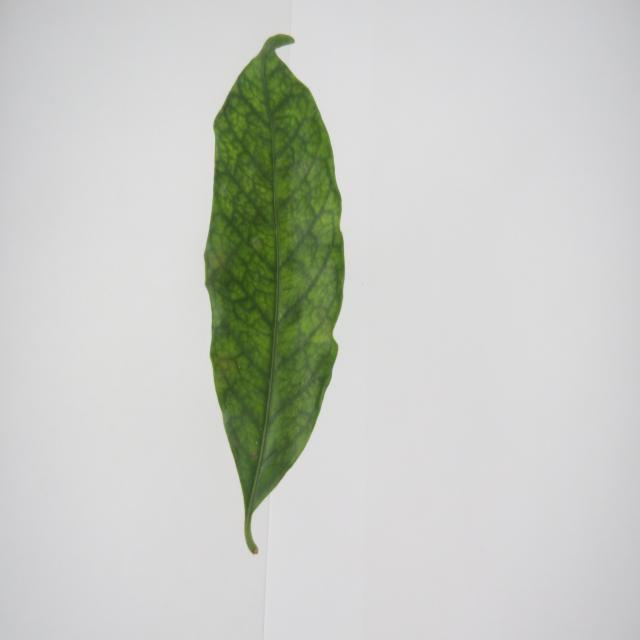DeficienciaNutricional-Manganeso: (205, 35, 344, 553)
